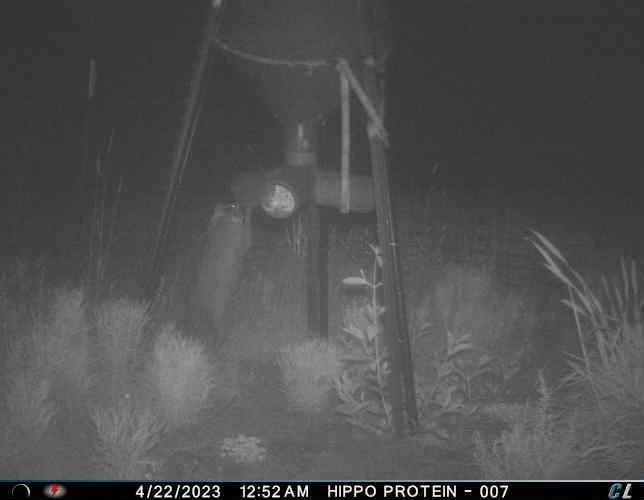Raccoon: (191, 194, 251, 350)
